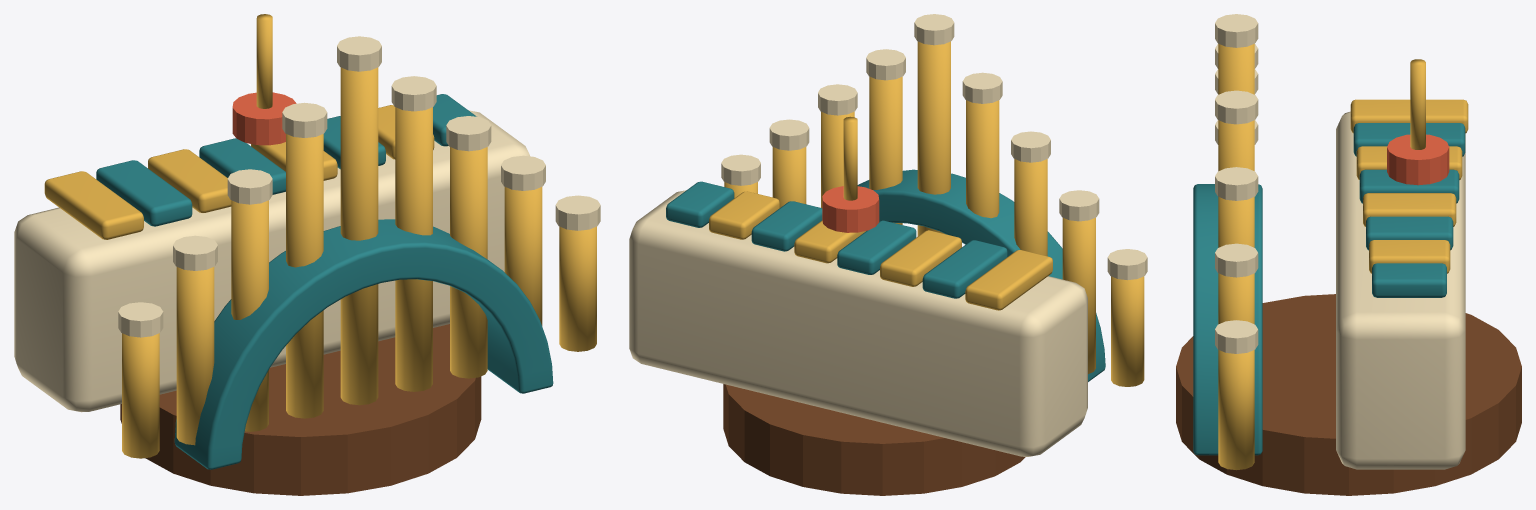
File: resonance-pavilion.glb
3 views of the same model, side by side, from view 1: azimuth 30°, elevation 25°; view 2: azimuth 150°, elevation 25°; view 3: azimuth 270°, elevation 25° (orthographic). The views are drawn at different scales.
Parts seen in each view (by area): view 1: Structure, AnimatedDetail; view 2: Structure, AnimatedDetail; view 3: Structure, AnimatedDetail.
Boxes of the visible parts, x1,y1,x2,y2 form: Structure: [14, 36, 600, 495]; AnimatedDetail: [232, 14, 296, 145]; Structure: [629, 14, 1147, 495]; AnimatedDetail: [822, 116, 879, 232]; Structure: [1176, 14, 1521, 495]; AnimatedDetail: [1387, 59, 1449, 185].
Size of the model in its own units: 3.05 by 2.55 by 2.
